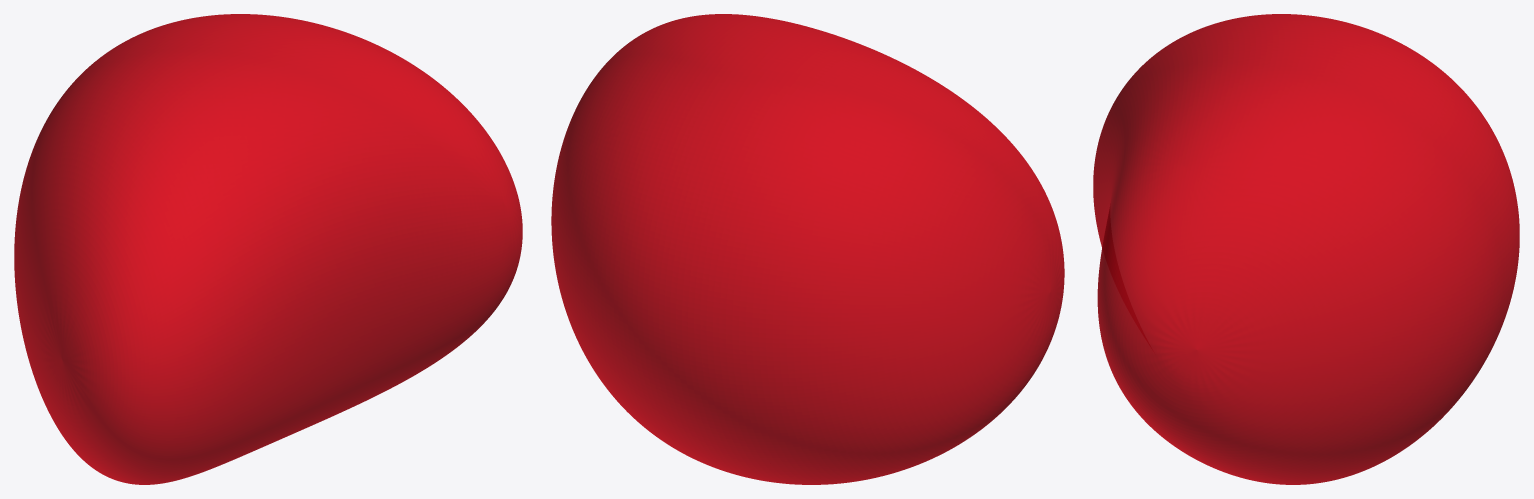
File: Therapeutic protein part 3.fbx
The picture shows the model from 3 angles, left to right: view 1: azimuth 30°, elevation 25°; view 2: azimuth 150°, elevation 25°; view 3: azimuth 270°, elevation 25°; orthographic projection. The views are drawn at different scales.
Visible parts, largest first — view 1: Sphere.001; view 2: Sphere.001; view 3: Sphere.001.
Boxes of the visible parts, x1=… form: Sphere.001: x1=14, y1=14, x2=522, y2=484; Sphere.001: x1=551, y1=14, x2=1064, y2=484; Sphere.001: x1=1093, y1=14, x2=1519, y2=484.
Bounding box in the file's own units: 135 × 119 × 107.
